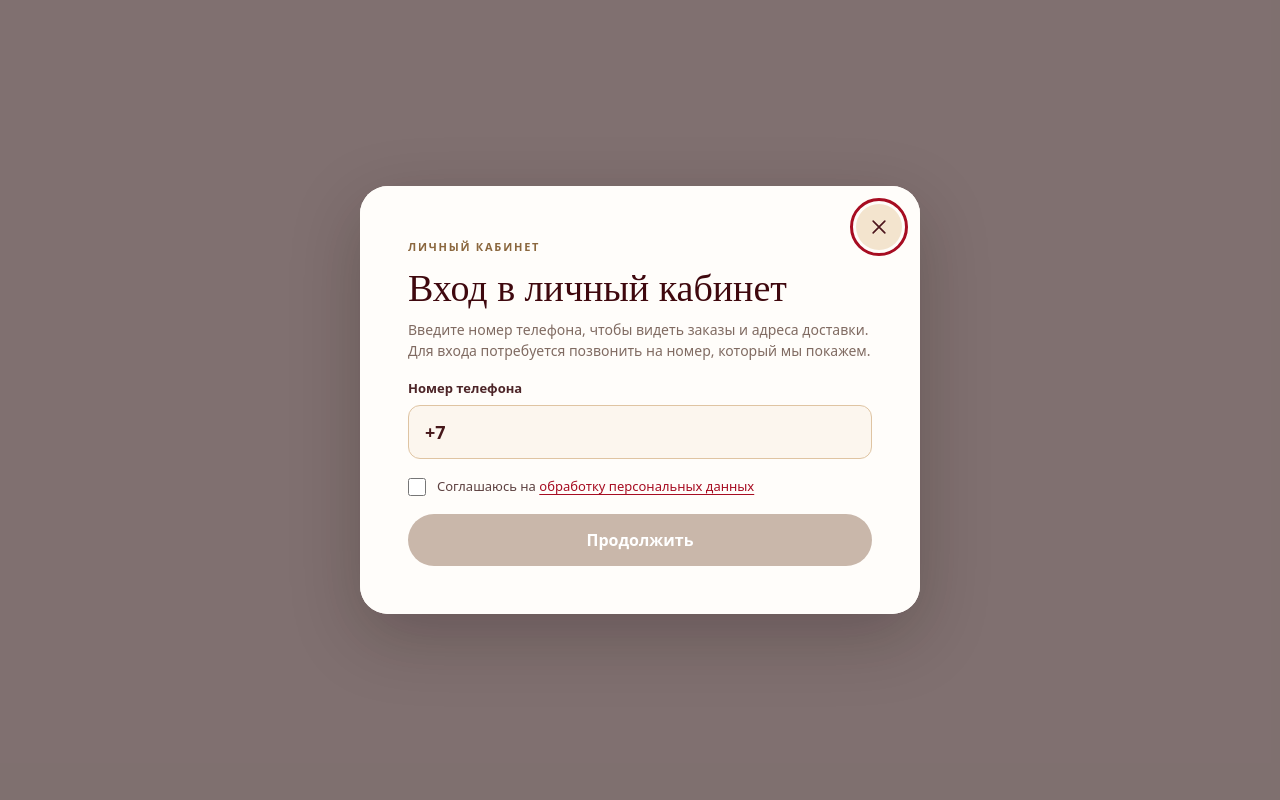
a start error does not unlock the phone input
Click the checkbox at [417, 487], box [408, 478, 426, 496]
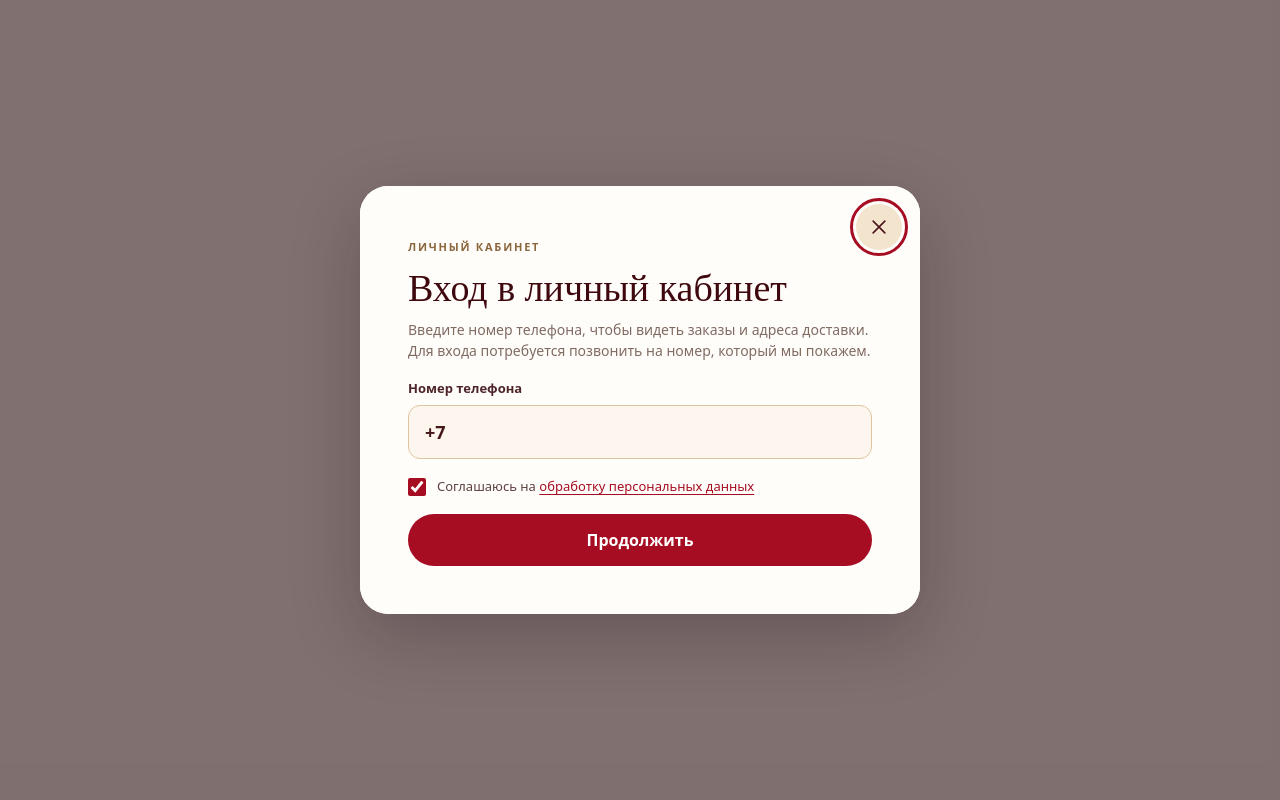
Replace the text in the field labelled "Номер телефона" with "9991234567" at [640, 432], box [408, 405, 872, 459]
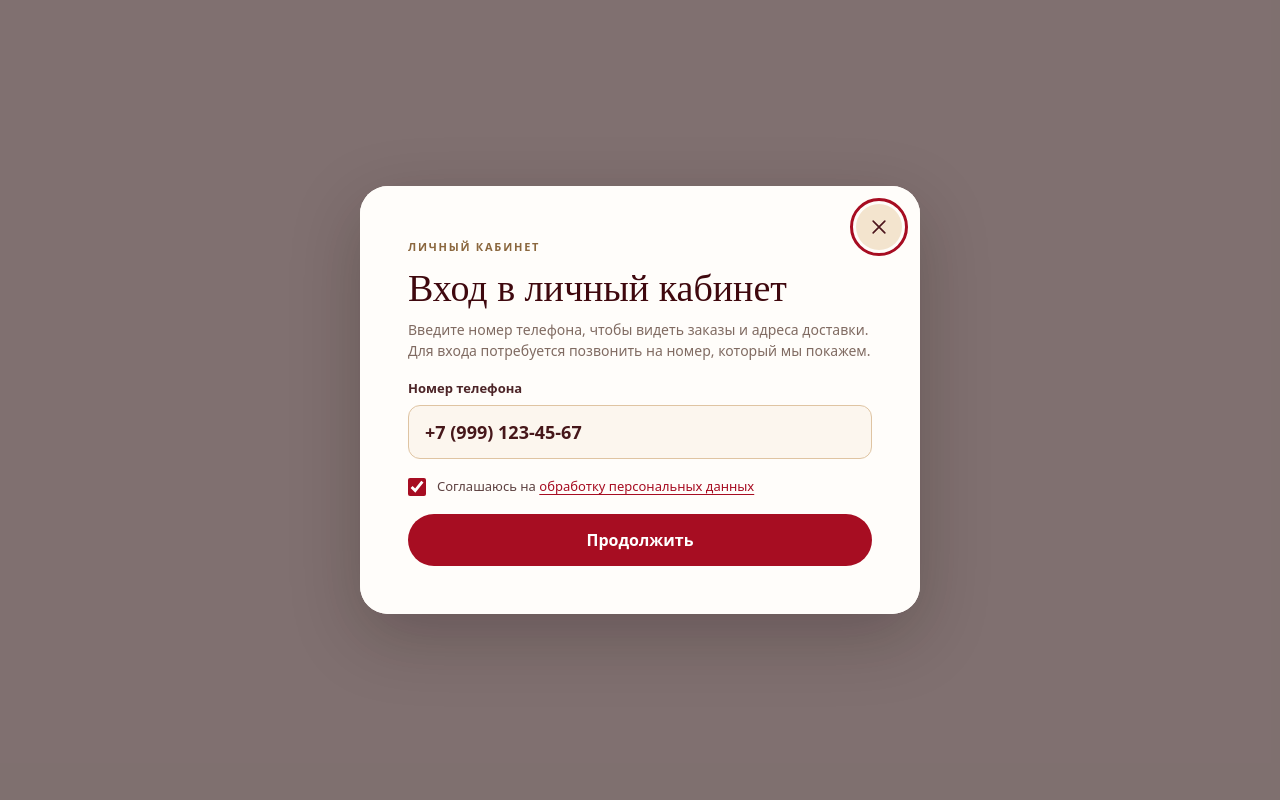
Click the button "Продолжить" at [640, 540], box [408, 514, 872, 566]
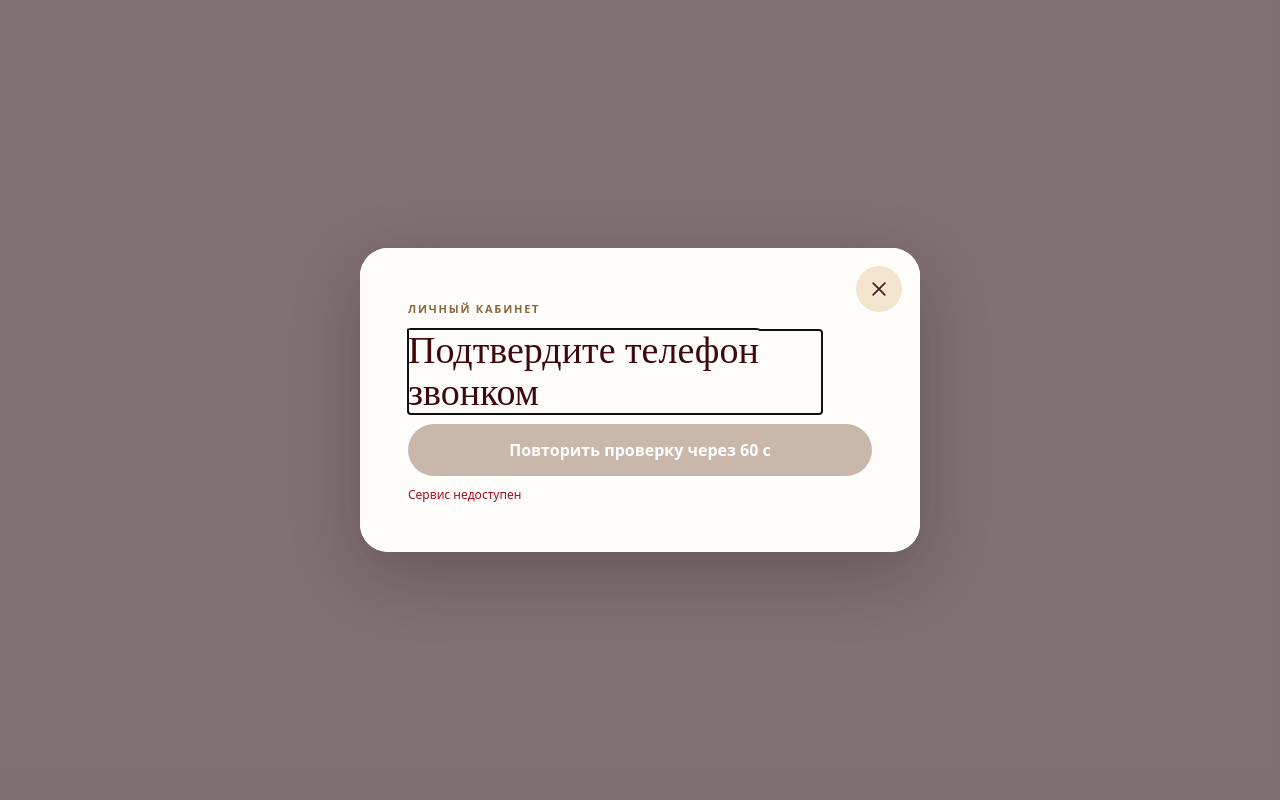
Check: the message reads "Сервис недоступен", box [408, 486, 521, 503]
Check: the field is gone
Check: the button "Повторить проверку через 60 с" is disabled, box [408, 424, 872, 476]
